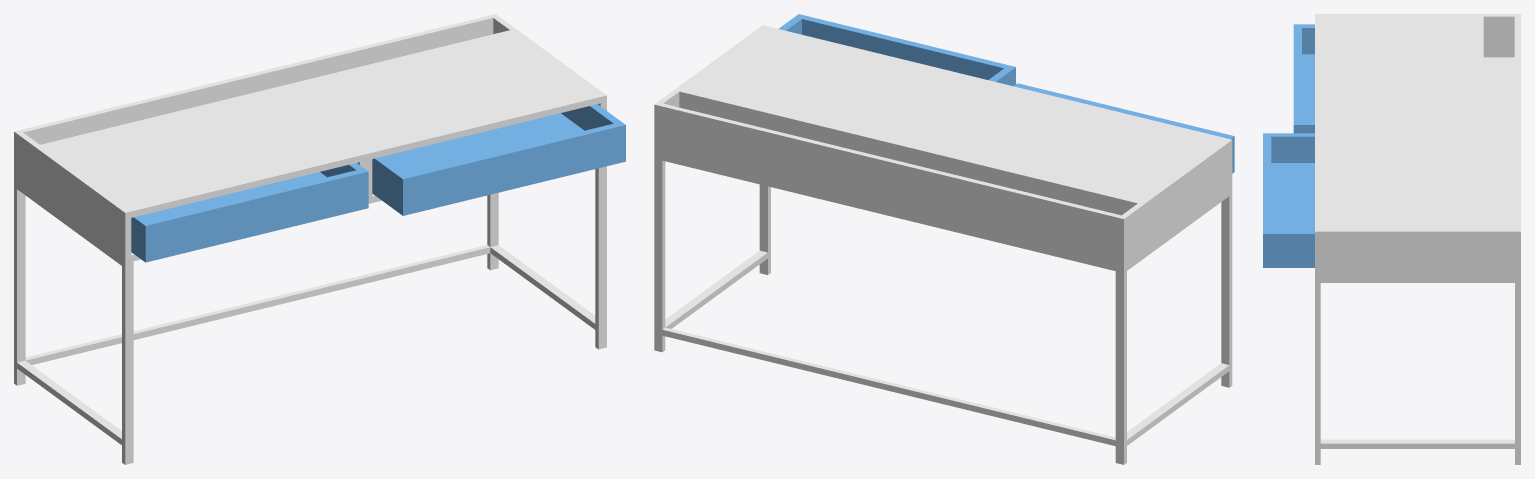
The model's file is Work Desk 1.glb.
3 renders of one model, left to right at view 1: azimuth 30°, elevation 25°; view 2: azimuth 150°, elevation 25°; view 3: azimuth 270°, elevation 25°, orthographic. The views are drawn at different scales.
Size of the model in its own units: 10 by 5 by 5.01.
1 material, 1 textured.
